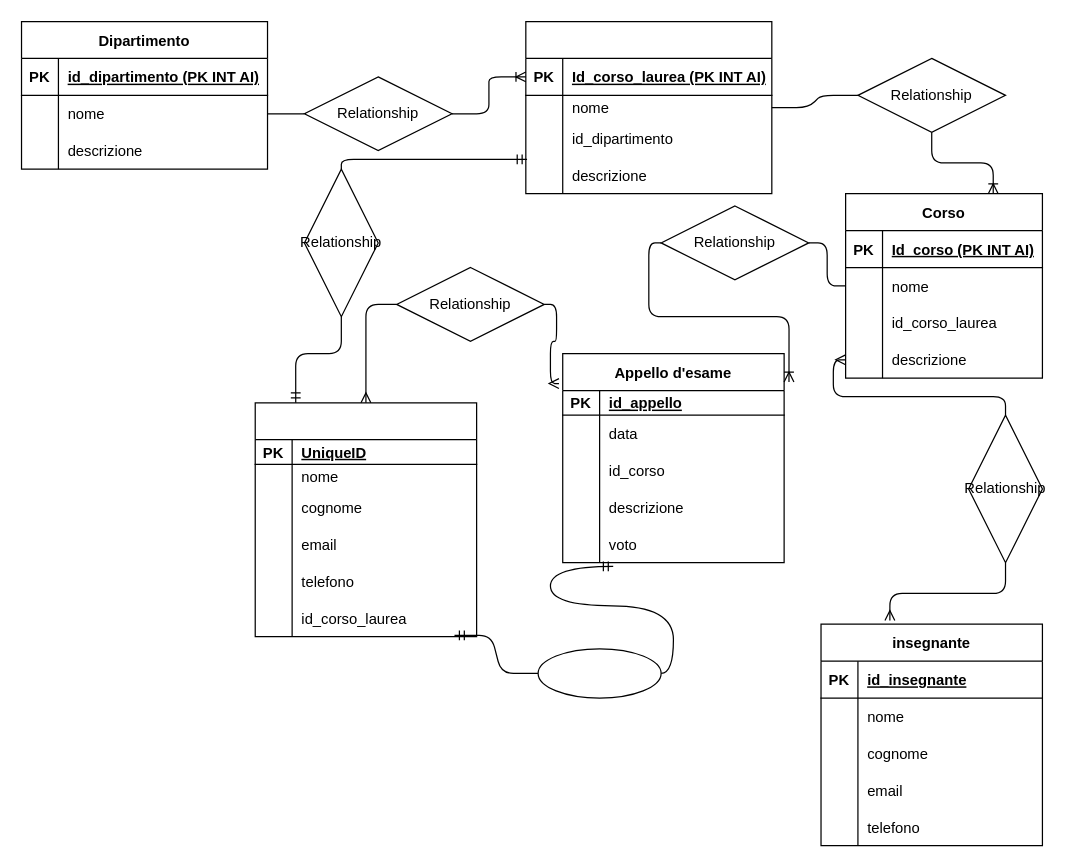
The diagram is 1068 pixels wide and 867 high, and some of its shapes have lost their labels. Here are the shapes that lost their labels. From the top down, the box of each, then its label:
(525, 20, 772, 194): Corso di laurea
(254, 402, 477, 637): studente
(537, 648, 661, 698): Attribute
